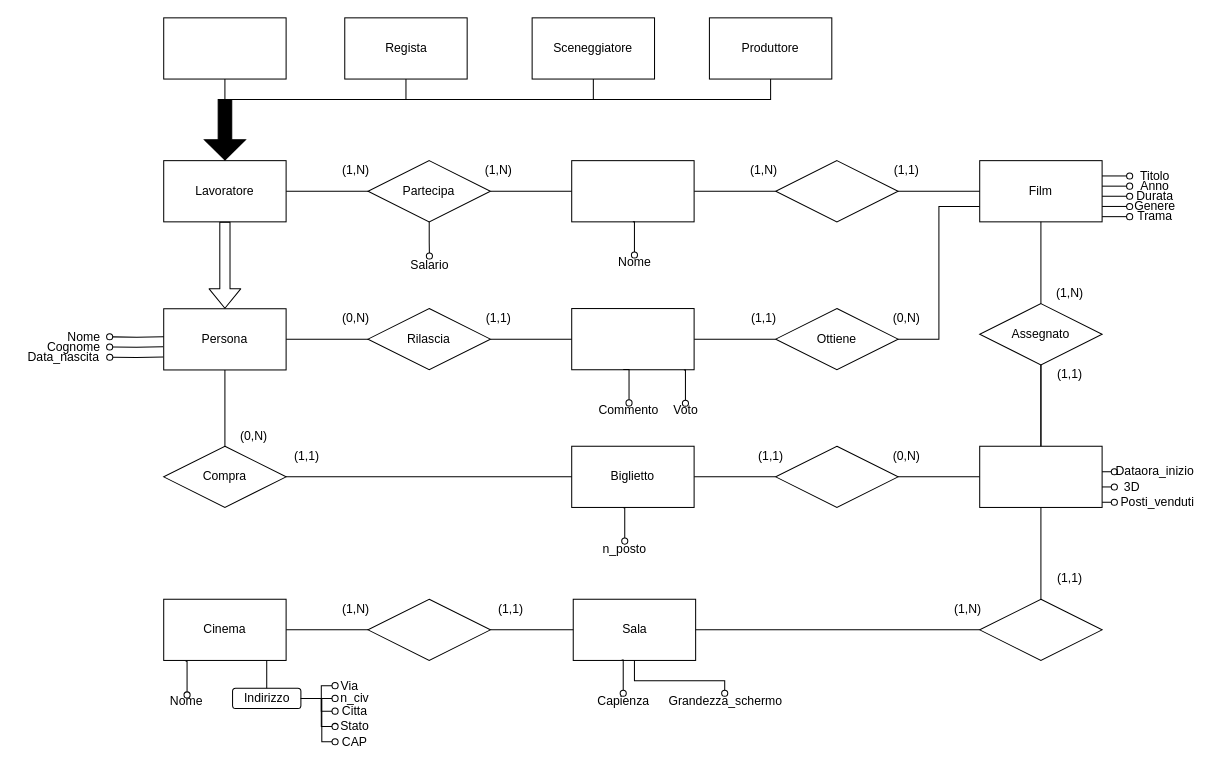
This 1218x768 diagram has some shape labels left out. Here are the shapes that lost their labels. From the top down, the centre of each, then its label:
pixel 224 48: Attore
pixel 632 191: Cast
pixel 836 191: Lavora
pixel 632 339: Recensione
pixel 836 476: Fa riferimento
pixel 1040 476: Spettacolo
pixel 428 629: Appartiene
pixel 1040 629: Assegnata
